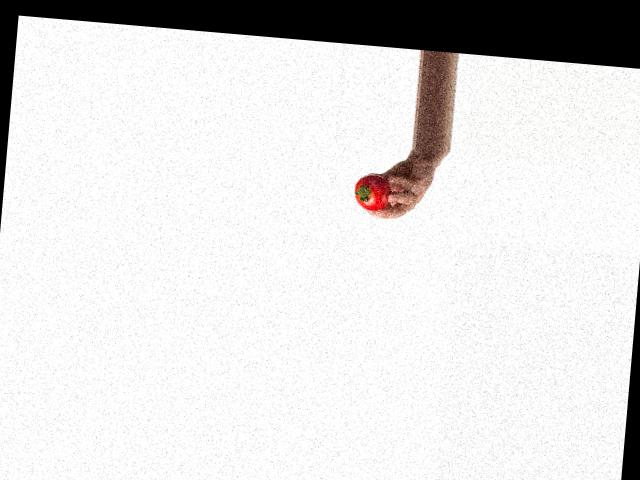tomato: (353, 172, 391, 211)
